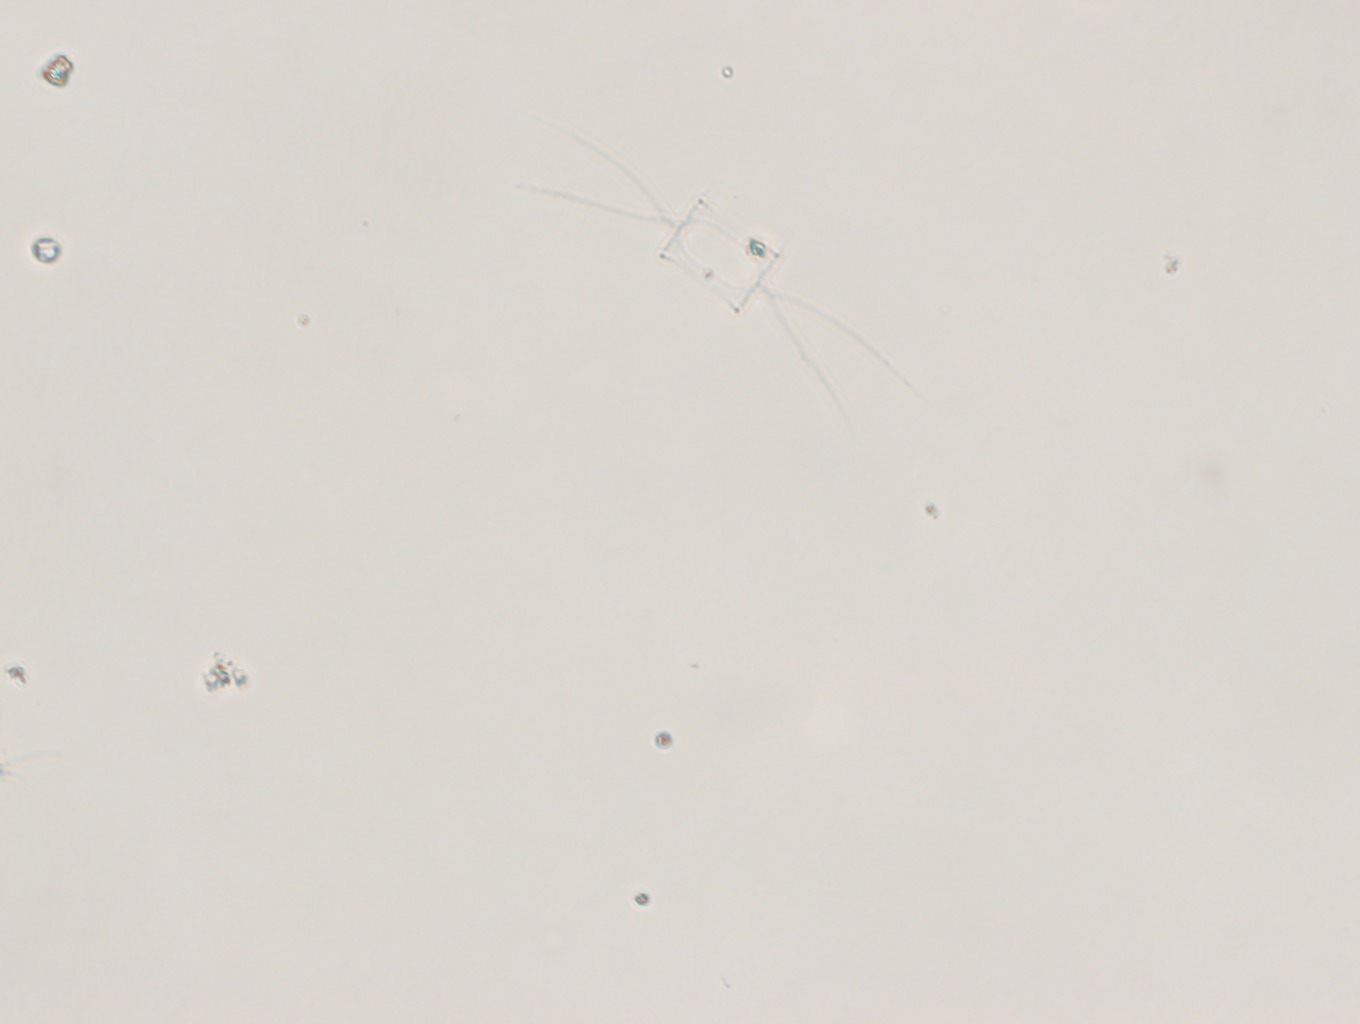chaetoceros: (531, 112, 932, 433)
